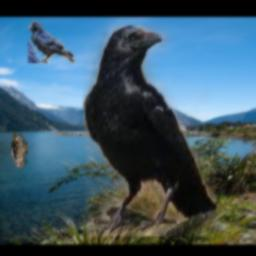Crow: (84, 27, 218, 237), (29, 20, 77, 63)
Woodpecker: (11, 132, 28, 168)
